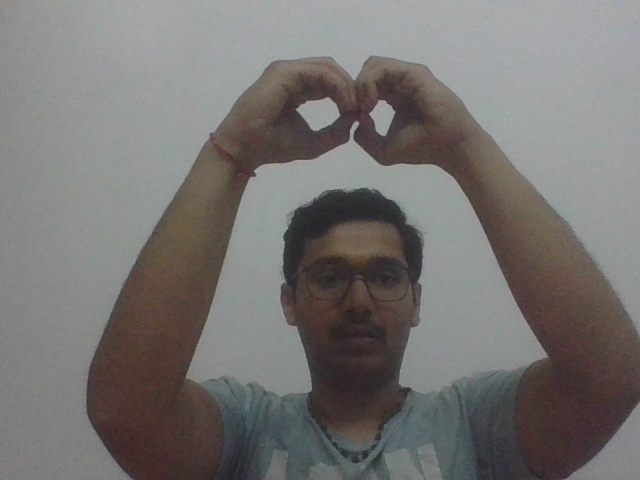B: (233, 53, 480, 169)
